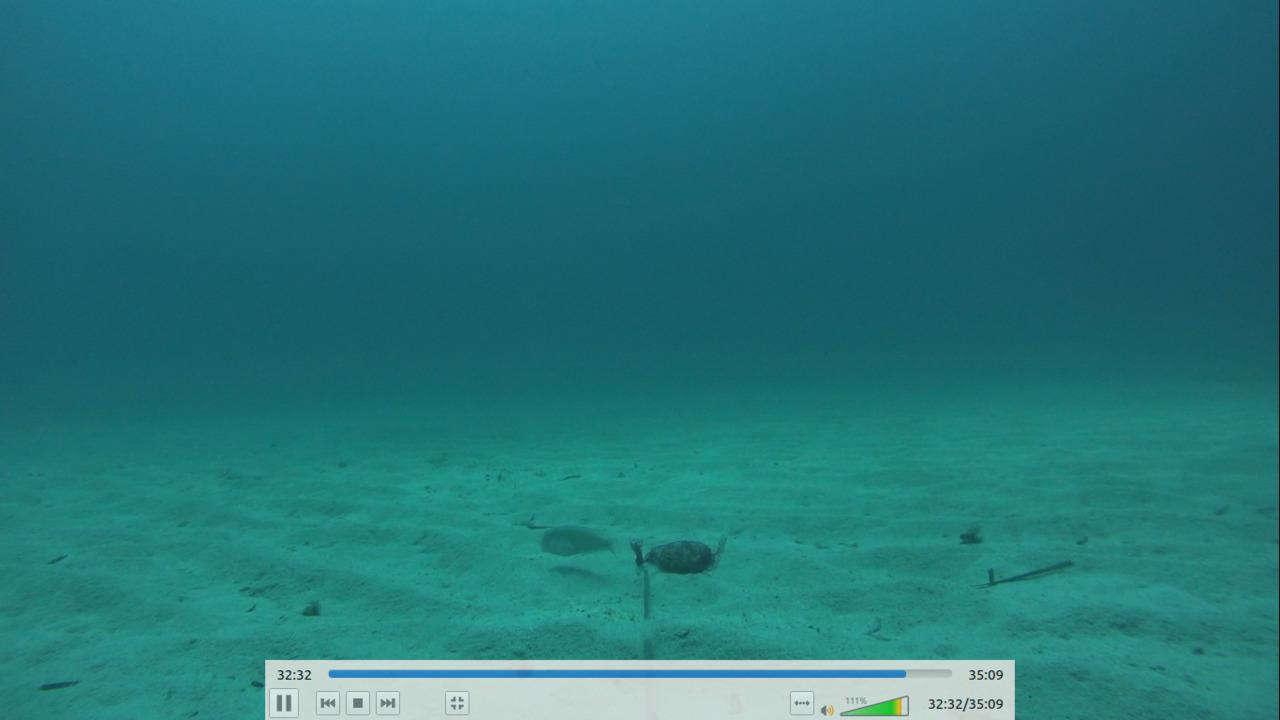raor: (533, 520, 624, 566)
